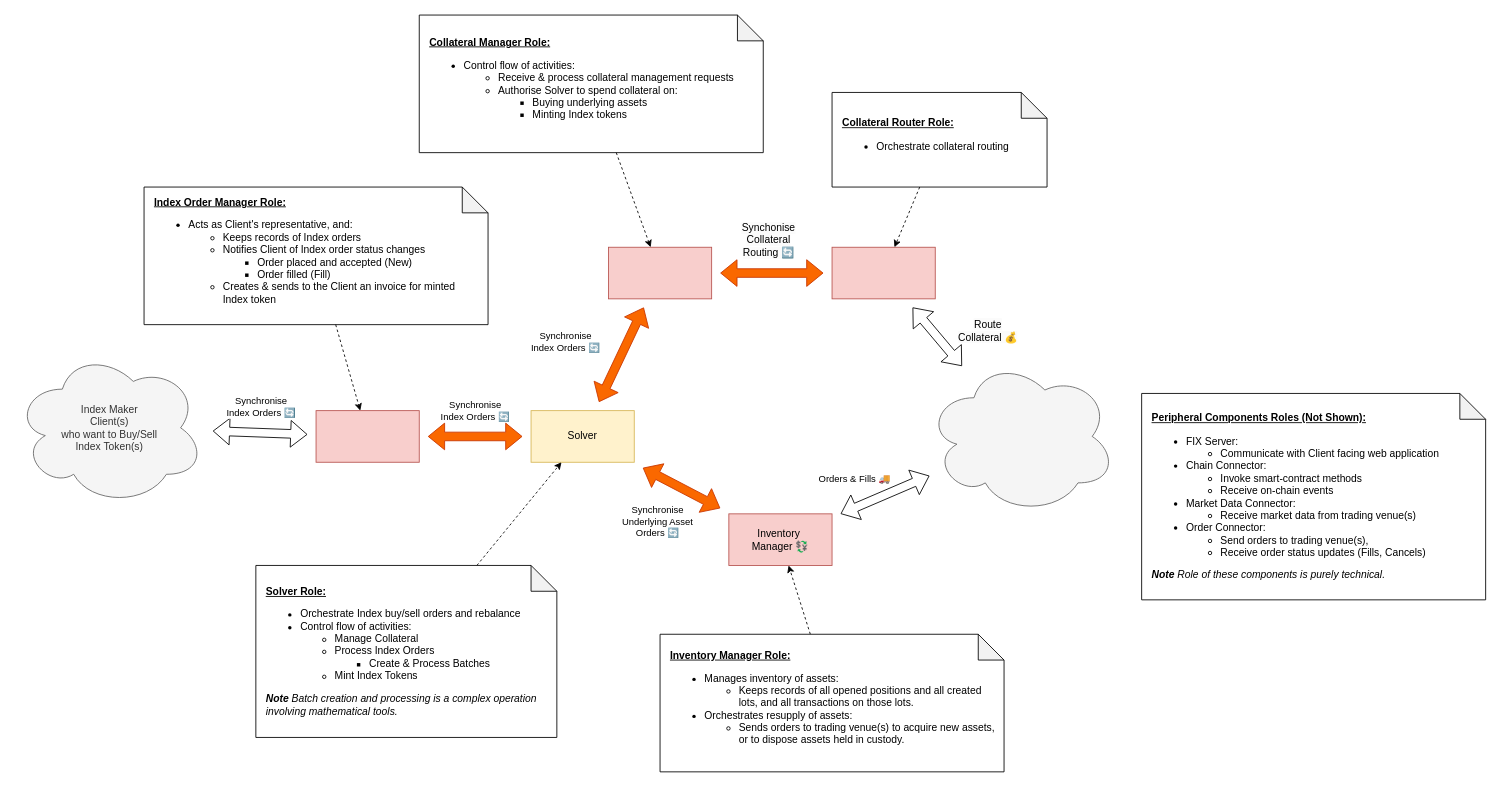
This 1501x787 diagram has some shape labels left out. The box of each missing label's shape, as (x1, y1, x2, y2) in pixels:
Collateral Manager 🏦: (608, 246, 712, 299)
Collateral Router 🔄: (831, 246, 935, 299)
Index Order Manager 👩‍💼: (315, 410, 419, 462)
Trading Venue(s): (926, 358, 1116, 514)
